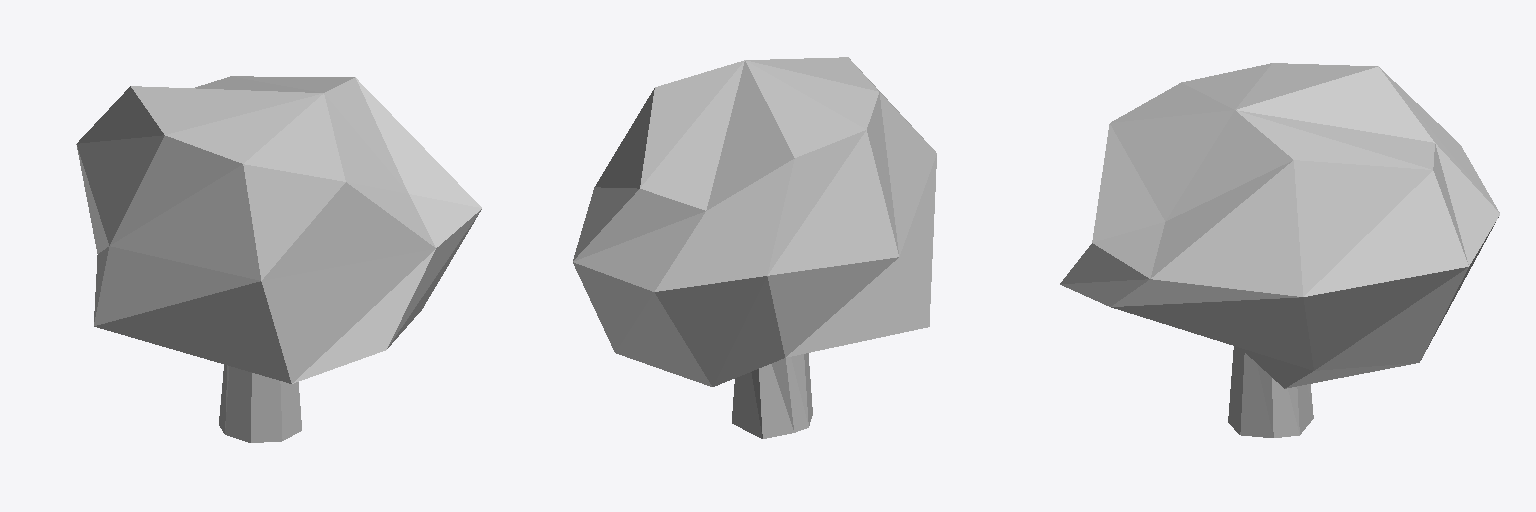
The model's file is bush.obj.
3 views of the same model, side by side, from view 1: azimuth 30°, elevation 25°; view 2: azimuth 150°, elevation 25°; view 3: azimuth 270°, elevation 25° (orthographic).
Visible parts, largest first — view 1: bush; view 2: bush; view 3: bush.
Boxes of the visible parts, <box> form: bush: <box>76,76,481,442</box>; bush: <box>573,57,936,438</box>; bush: <box>1060,63,1499,437</box>.
Size of the model in its own units: 1.4 by 1.39 by 1.65.